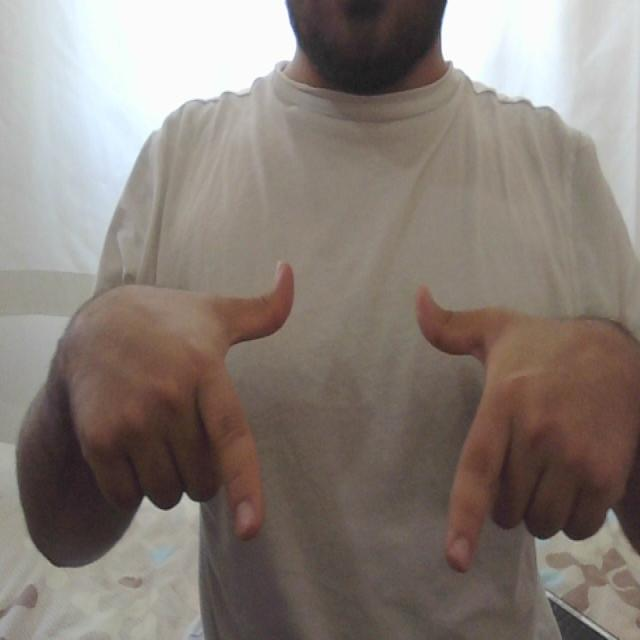Nerede: (190, 255, 522, 581)
